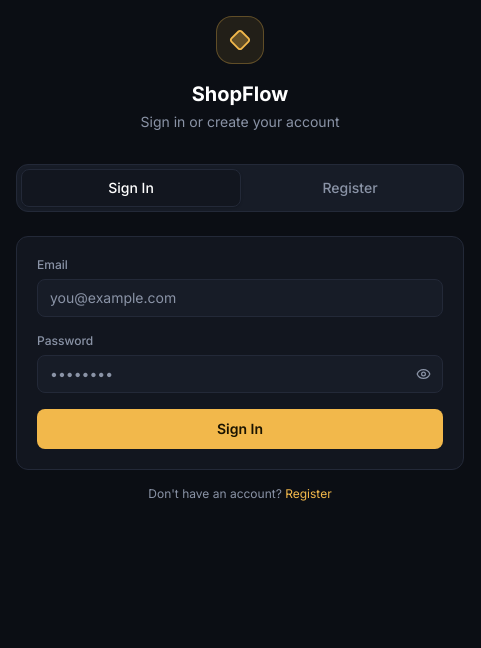
Scenario: AuthPage — Register › shows error on register failure
Click the 1st button "Register" at (350, 188), box [241,169,459,207]
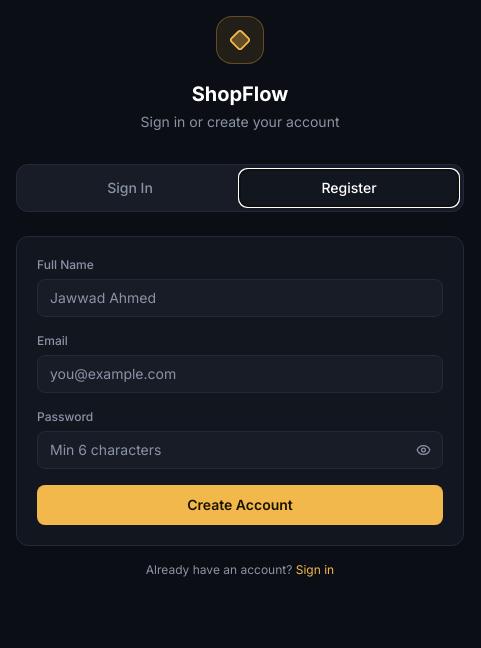
Type "User" into the field with placeholder "Jawwad Ahmed" at (240, 298), box [37,279,443,317]
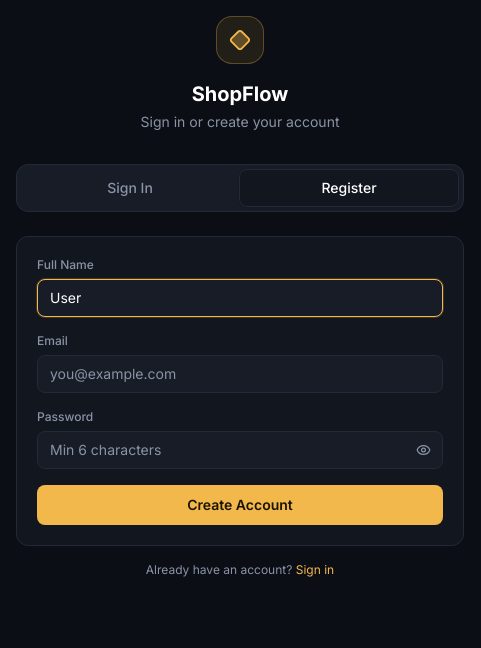
Type "exists@b.com" into the field with placeholder "you@example.com" at (240, 374), box [37,355,443,393]
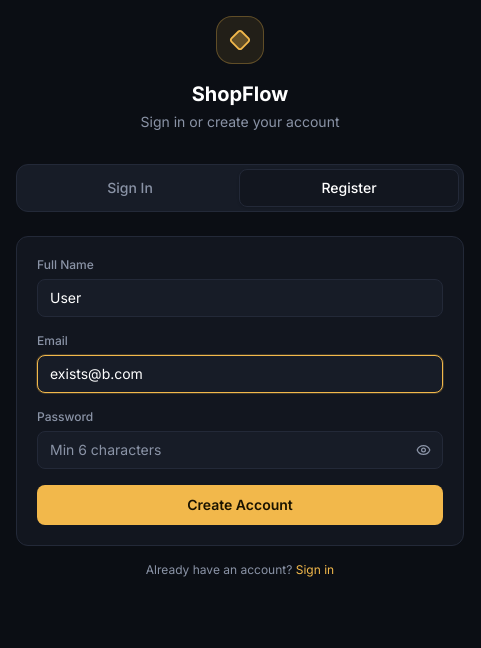
Type "pass123" into the password field with placeholder "Min 6 characters" at (240, 450), box [37,431,443,469]
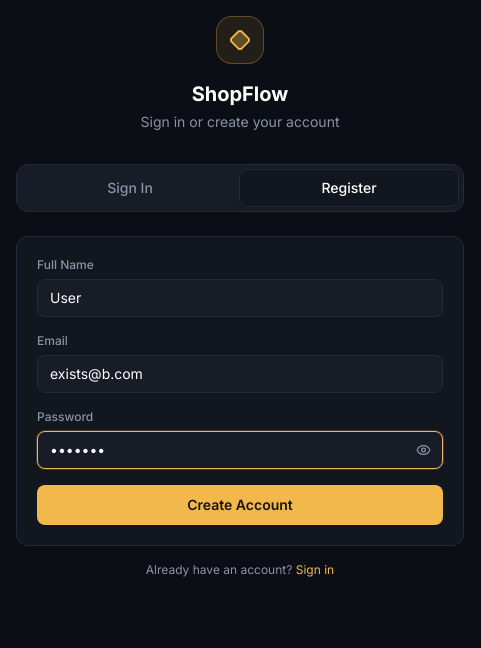
Click the button "Create Account" at (240, 505), box [37,485,443,525]
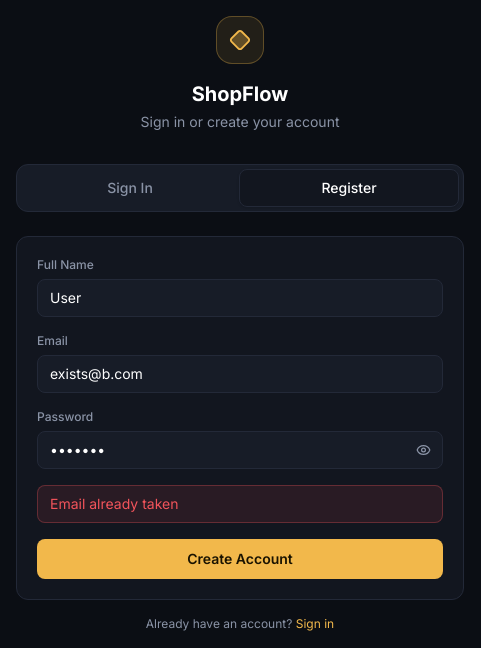
Check: the text "Email already taken" is shown, box [37,485,443,523]
